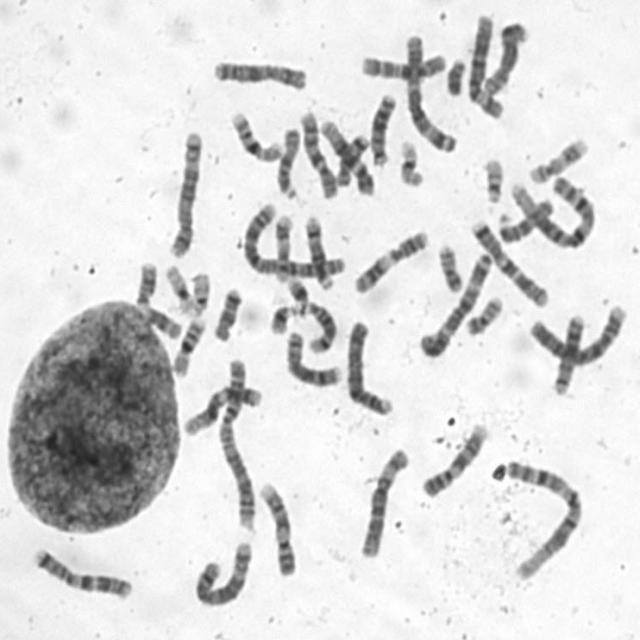A1: (500, 455, 586, 582), (504, 173, 598, 251)
A2: (239, 201, 346, 282), (216, 355, 258, 533)
A3: (416, 250, 494, 359), (401, 30, 458, 155)
B4: (524, 299, 630, 368), (344, 316, 394, 418)
B5: (168, 126, 205, 260), (190, 537, 254, 609)
C10: (296, 106, 338, 201), (356, 49, 449, 81)
C11: (350, 226, 430, 296), (134, 262, 184, 341)
C12: (179, 380, 265, 438), (318, 116, 376, 198)
C6: (356, 444, 411, 560), (465, 11, 505, 120)
C7: (468, 216, 550, 308), (31, 544, 136, 600)
C8: (480, 18, 530, 97), (283, 328, 343, 389)
C9: (419, 418, 491, 498), (257, 478, 298, 578)
D13: (550, 310, 588, 395), (366, 90, 398, 168)
D14: (300, 212, 335, 292), (297, 298, 338, 355)
D15: (494, 193, 556, 246), (272, 124, 304, 201)
E16: (227, 107, 284, 164), (170, 314, 208, 379)
E17: (524, 134, 590, 185), (272, 211, 295, 284)
E18: (333, 132, 372, 190), (210, 284, 244, 343)
F19: (163, 260, 196, 316), (395, 136, 426, 188)
F20: (463, 292, 506, 337), (435, 240, 464, 294)
G21: (267, 300, 295, 336), (284, 274, 310, 309)
G22: (183, 268, 212, 318), (480, 155, 504, 205)
X: (209, 57, 309, 92)
Y: (444, 55, 468, 96)
